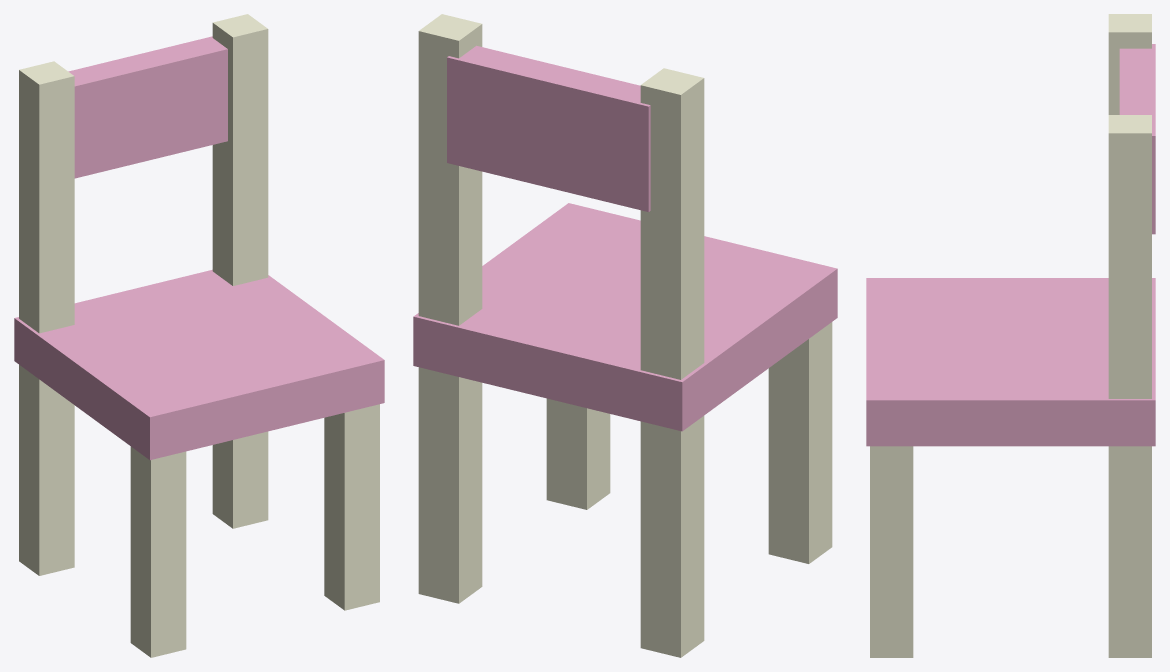
The model's file is chair2_pink.glb.
3 views of the same model, side by side, from view 1: azimuth 30°, elevation 25°; view 2: azimuth 150°, elevation 25°; view 3: azimuth 270°, elevation 25° (orthographic). The views are drawn at different scales.
Visible parts, largest first — view 1: Box006; view 2: Box006; view 3: Box006.
Part boxes in pixels (x1=…): Box006: x1=14, y1=14, x2=384, y2=657; Box006: x1=413, y1=14, x2=837, y2=657; Box006: x1=866, y1=14, x2=1155, y2=657.
Bounding box in the file's own units: 0.08 × 0.16 × 0.08.
Materials: 1 (1 with a texture image).
